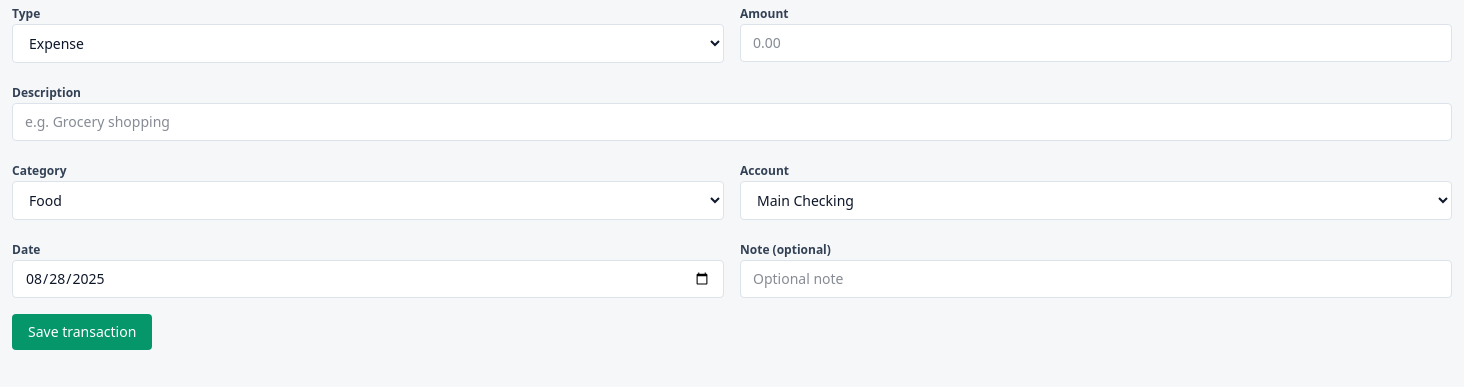
TransactionForm submission › blocks submission when description is missing
In the number field with placeholder "0.00": [1096, 43] box [740,24,1452,62], type "50"
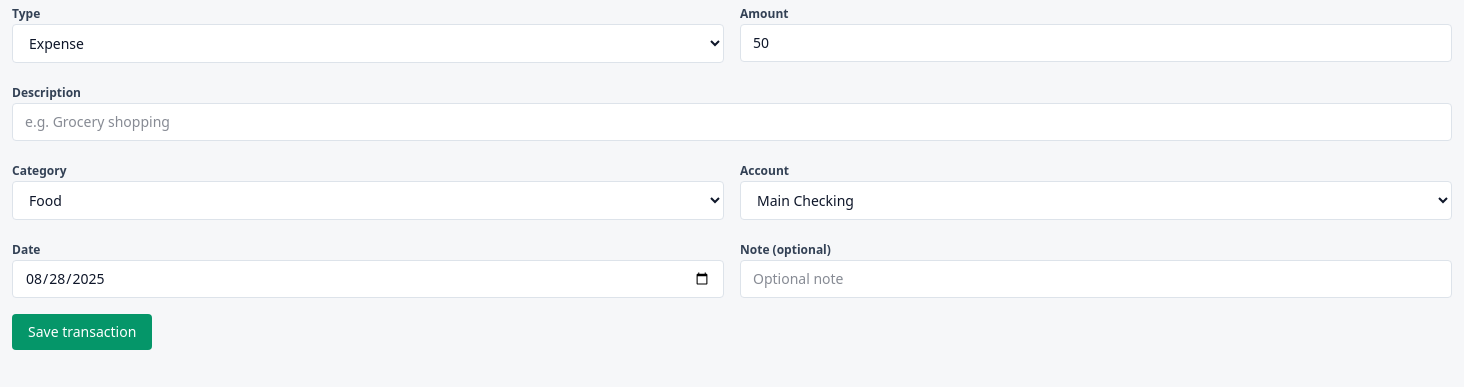
Click the button "Save transaction": [82, 332] box [12,314,152,350]
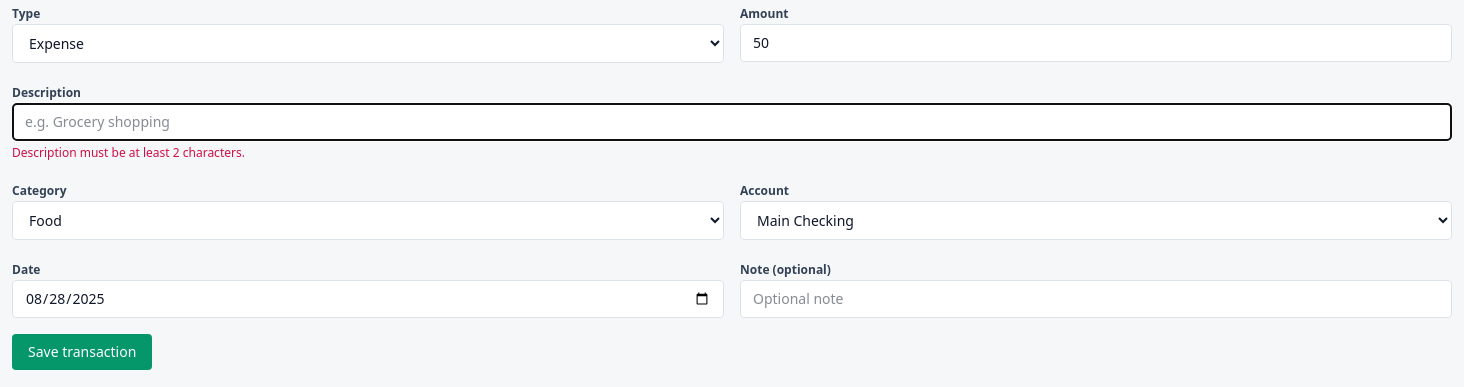
Result: the text "Description must be at least 2 characters." is shown at [12,144,245,161]
